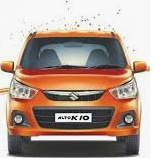car: (1, 28, 147, 156)
